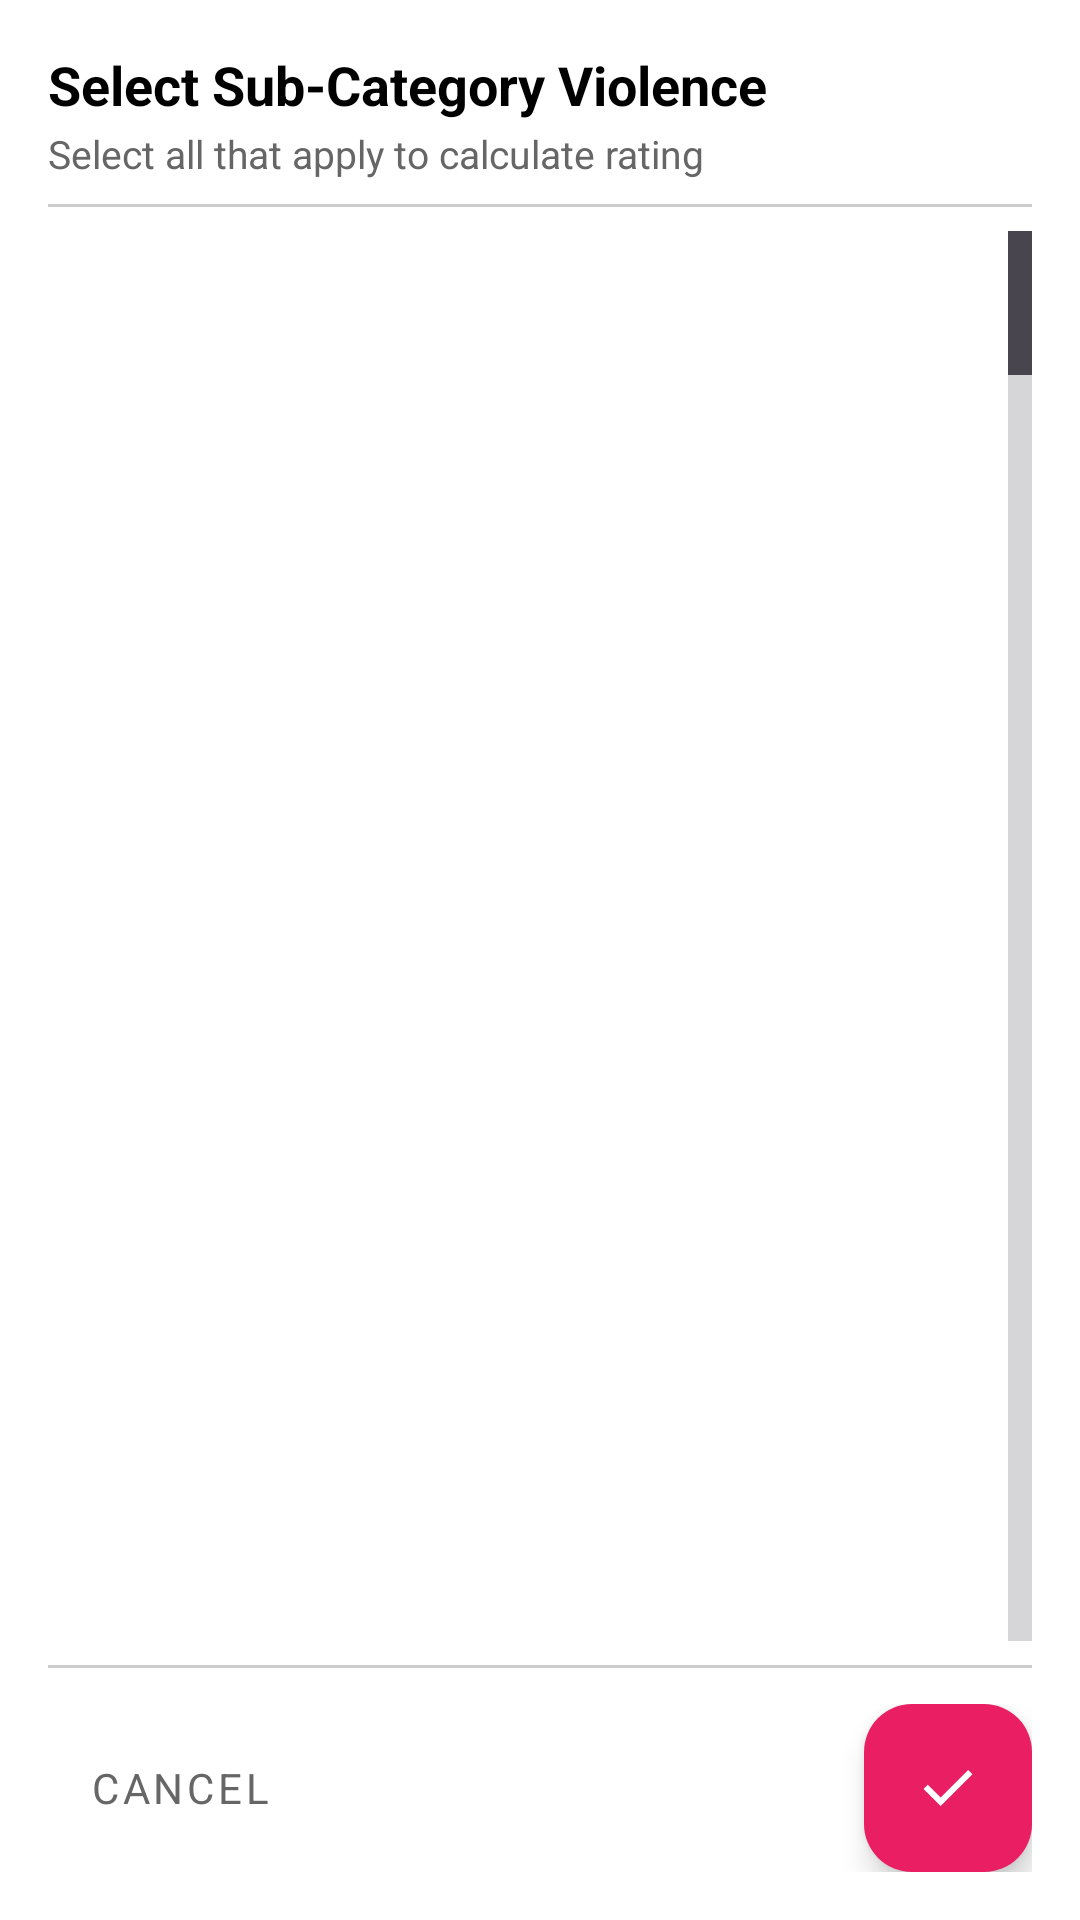

Icons on this 1080x1920 Android screen, each with its box as box(x1, y1, x2, y2):
Confirm Selection: box(864, 1704, 1032, 1872)
